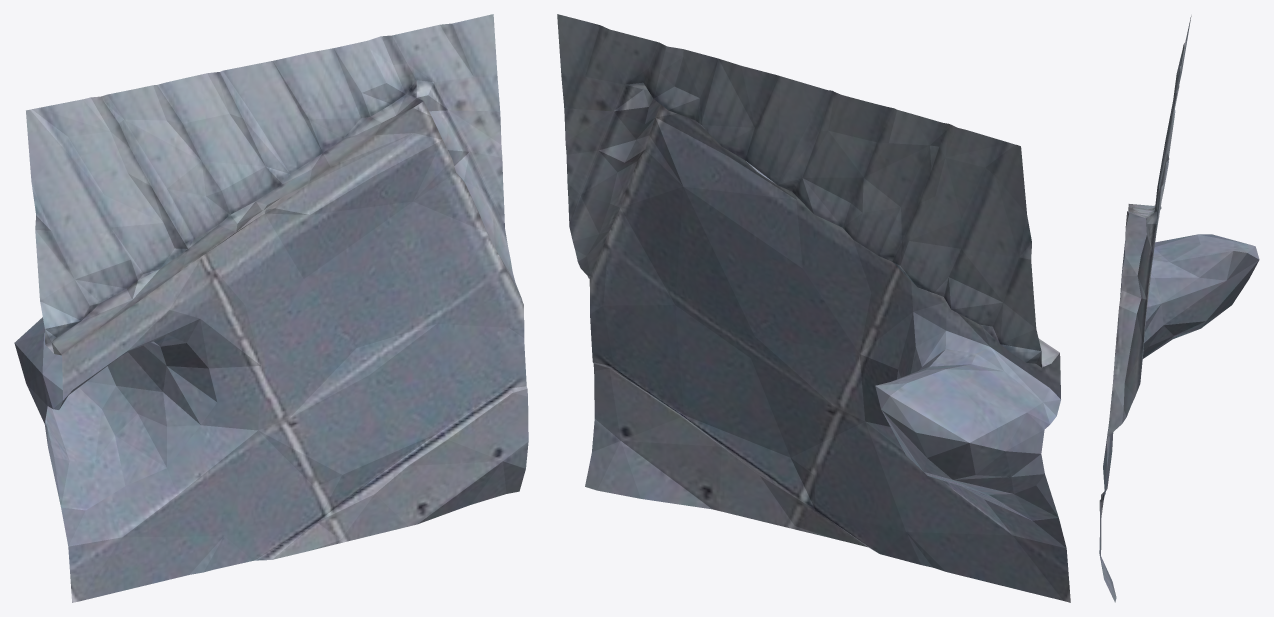
The model's file is Tile_+003_+006_L22_00020.obj.
The picture shows the model from 3 angles, left to right: view 1: azimuth 30°, elevation 25°; view 2: azimuth 150°, elevation 25°; view 3: azimuth 270°, elevation 25°; orthographic projection. The views are drawn at different scales.
Size of the model in its own units: 3.91 by 3.81 by 1.39.
Materials: 1 (1 with a texture image).
